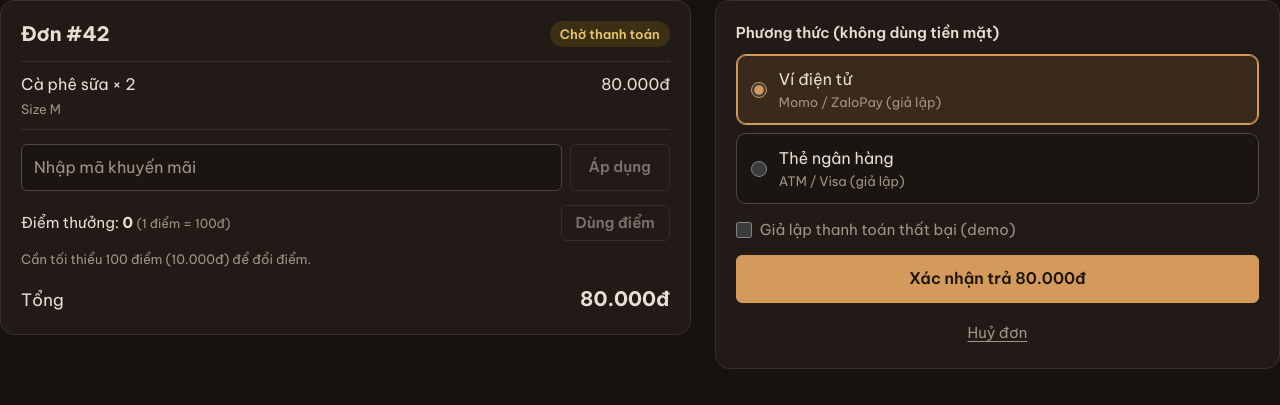
Test: Checkout — mã khuyến mãi (FR-18) › mã bị từ chối: hiện lý do và giữ nguyên tổng tiền
Type "HETHAN" into the field labelled "mã khuyến mãi" at (291, 168), box [21,144,562,191]
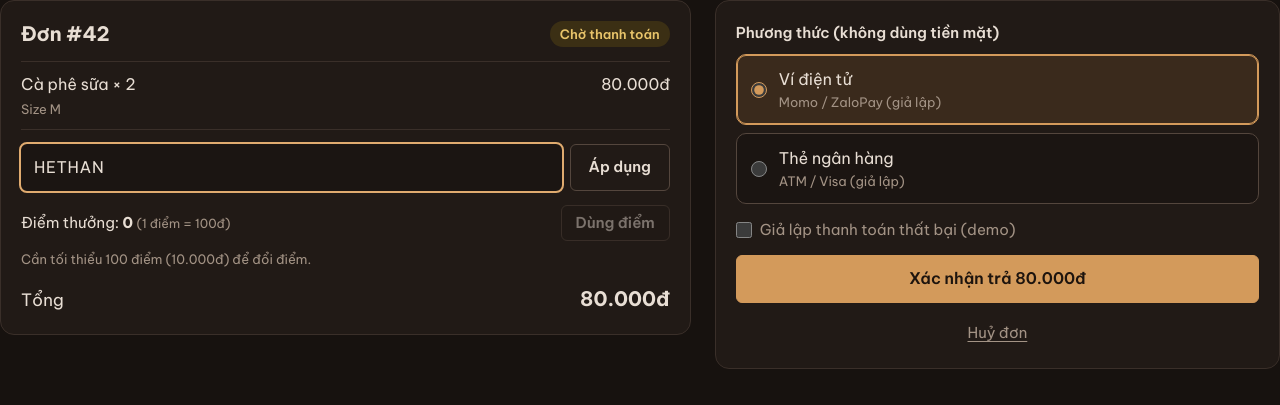
Click the button "Áp dụng" at (620, 168), box [570,144,670,191]
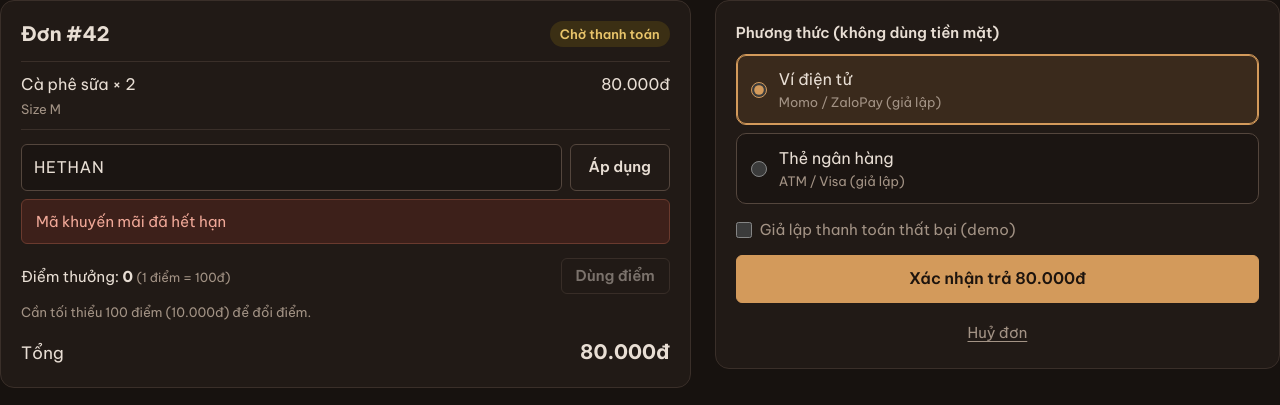
Expected: the text with test id "order-total" reads "80.000đ", [580,339,670,364]
Expected: the message reads "Mã khuyến mãi đã hết hạn", [36,212,226,231]
